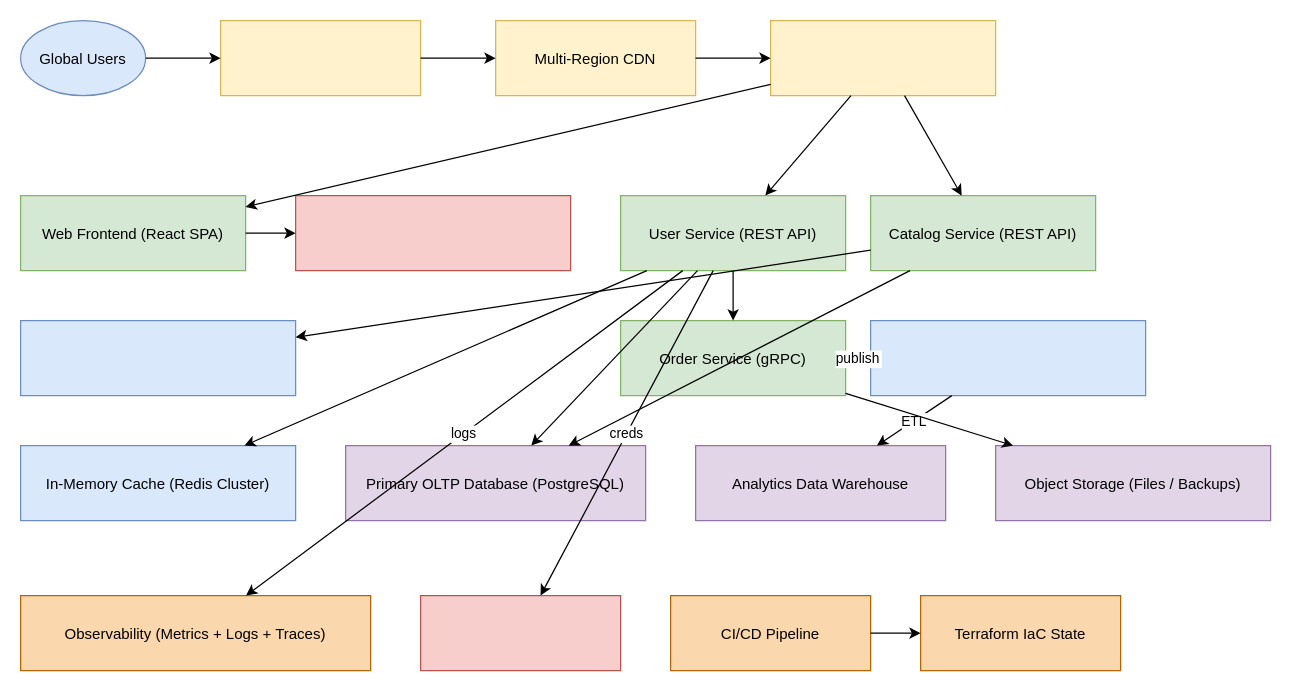
Image size: 1291x691. Some labels were removed from this diagram. The box of each missing label's shape, as (x1, y1, x2, y2) in pixels:
API Gateway / Reverse Proxy: (769, 19, 996, 96)
Elasticsearch (Full-text Search): (19, 319, 296, 396)
Global DNS / Traffic Manager: (219, 19, 421, 96)
Kafka / Event Streaming Platform: (869, 319, 1146, 396)
OAuth2 / OpenID Identity Provider: (294, 194, 571, 271)
Secrets Vault: (419, 594, 621, 671)
